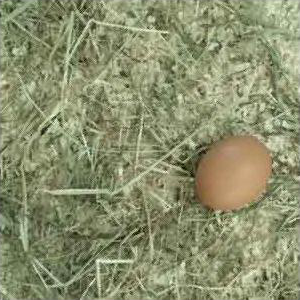egg: (194, 135, 273, 211)
